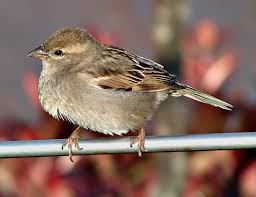hsparrow: (22, 24, 239, 168)
